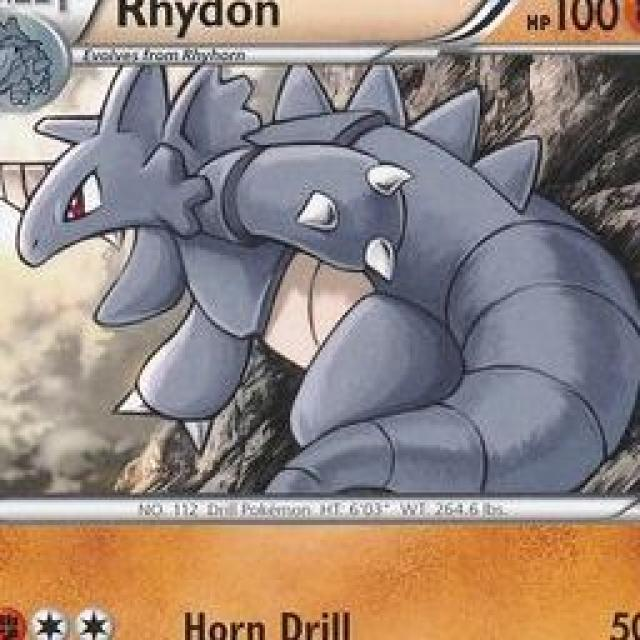Rhydon: (11, 70, 544, 432)
